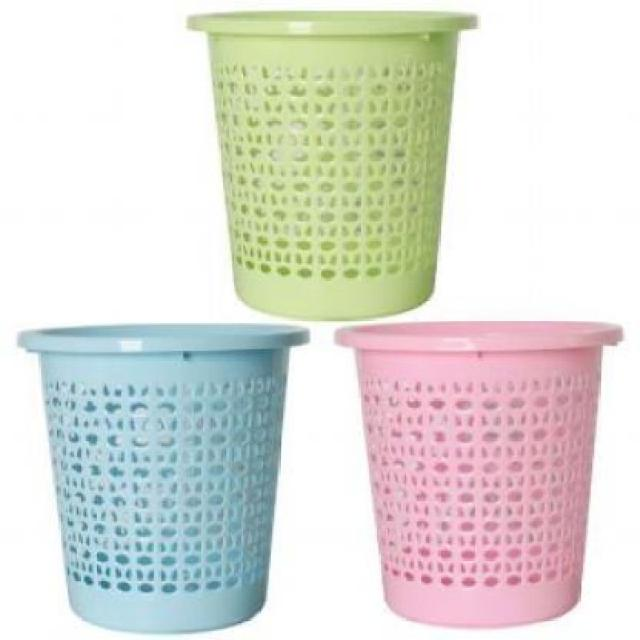dustbin: (328, 312, 630, 636), (12, 317, 316, 638), (182, 6, 483, 326)
